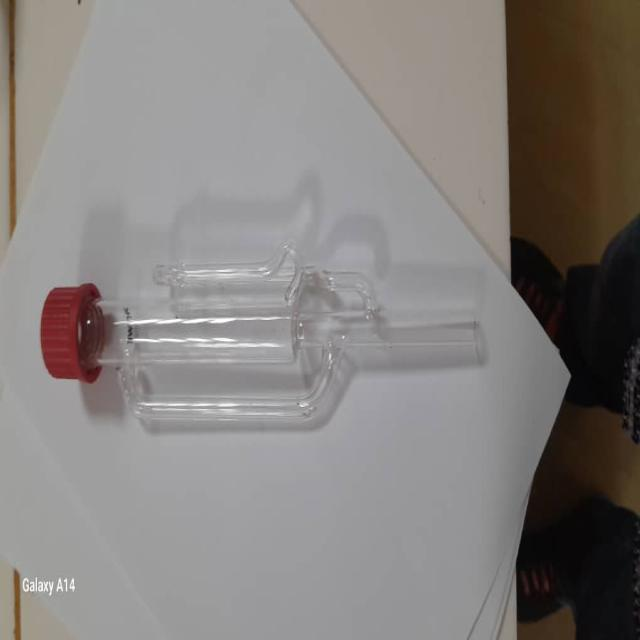Soxhlet: (31, 245, 488, 451)
